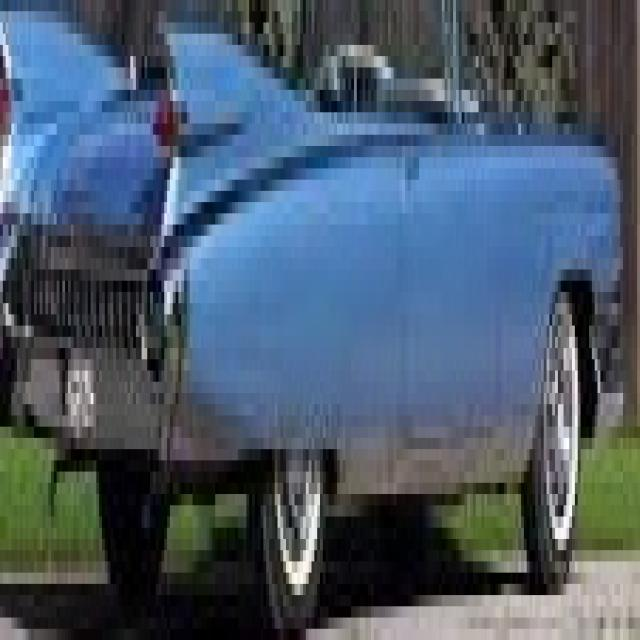blue: (2, 0, 640, 617)
